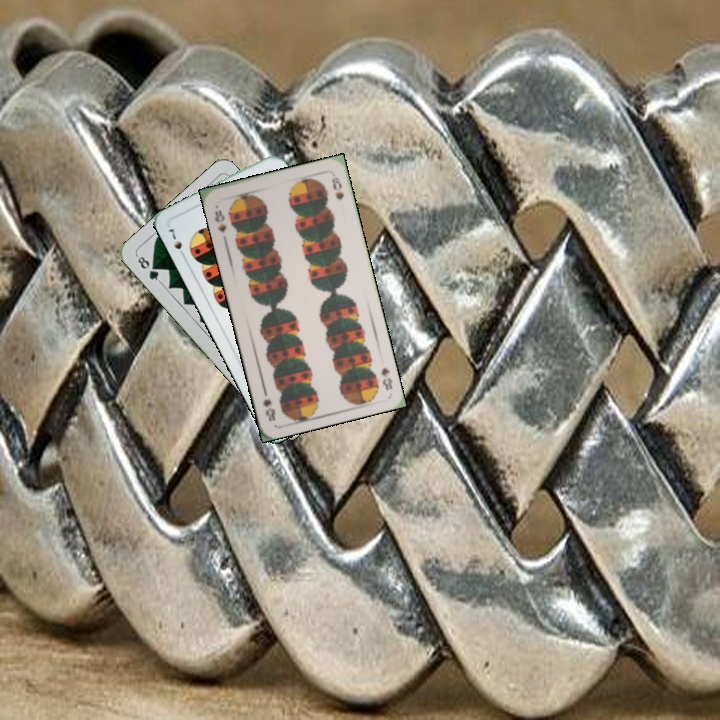G8: (133, 251, 163, 285)
S7: (164, 224, 188, 261)
S8: (377, 363, 395, 393), (211, 206, 229, 235)
